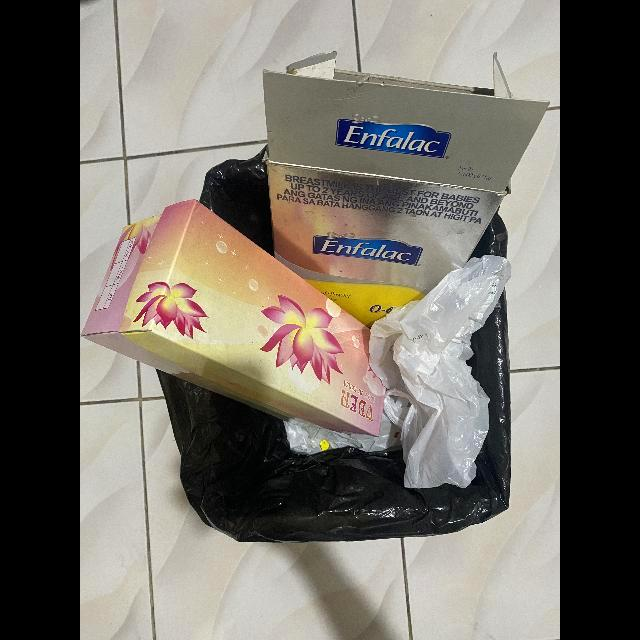cardboard: (263, 52, 549, 335), (82, 200, 395, 438)
plastic_bag: (369, 256, 512, 489)
